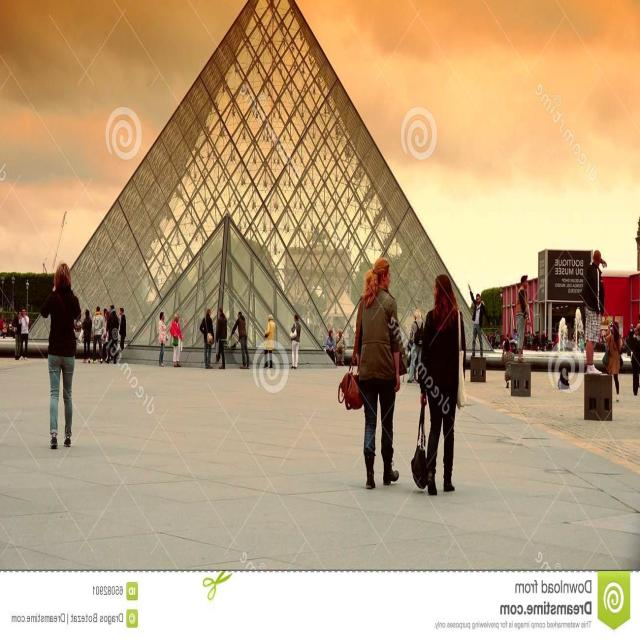adult: (342, 257, 406, 491), (413, 276, 466, 499), (45, 259, 83, 458), (582, 249, 608, 373), (468, 284, 487, 357), (605, 322, 621, 400), (230, 312, 250, 369), (517, 275, 530, 361), (199, 308, 214, 368), (104, 304, 119, 362), (215, 307, 227, 368), (500, 339, 514, 388), (92, 306, 104, 362), (170, 312, 182, 367), (263, 314, 275, 368), (631, 323, 640, 394), (158, 311, 168, 366), (290, 314, 300, 368), (82, 309, 92, 363), (19, 308, 29, 360), (12, 310, 22, 360), (335, 329, 346, 364), (325, 330, 336, 360), (119, 308, 126, 352)
